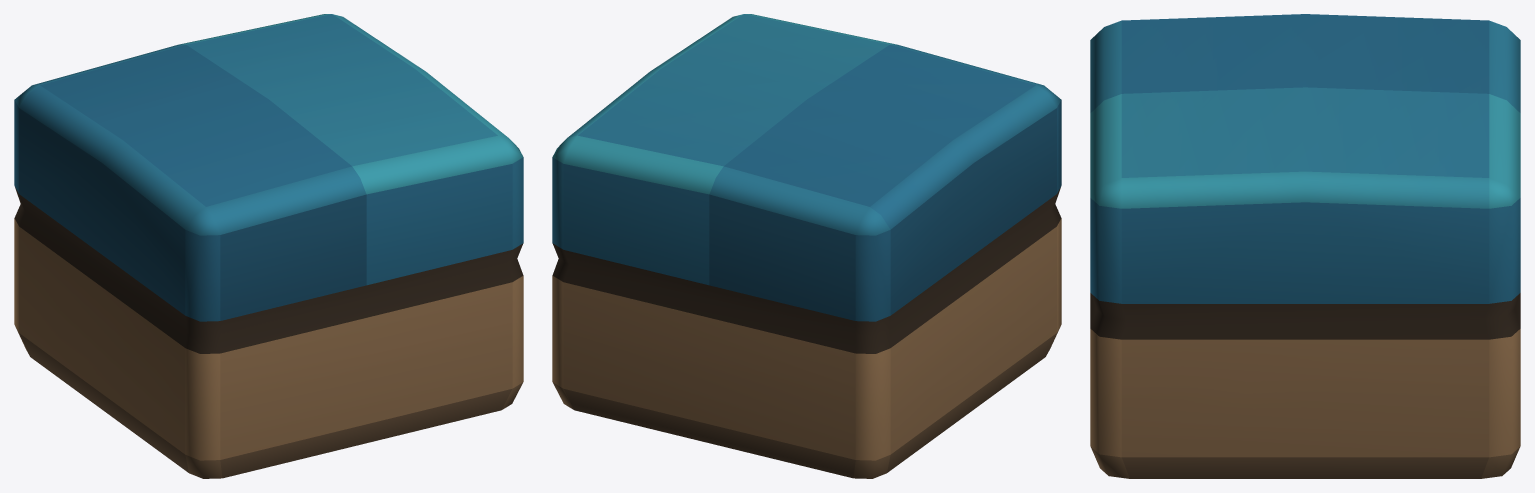
File: seating_outdoor1_2_footrest_half_LOD_setup.fbx
3 views of the same model, side by side, from view 1: azimuth 30°, elevation 25°; view 2: azimuth 150°, elevation 25°; view 3: azimuth 270°, elevation 25° (orthographic). The views are drawn at different scales.
Parts seen in each view (by area): view 1: seating_outdoor1_2_footrest_half_LOD0; view 2: seating_outdoor1_2_footrest_half_LOD0; view 3: seating_outdoor1_2_footrest_half_LOD0.
Boxes of the visible parts, x1,y1,x2,y2 form: seating_outdoor1_2_footrest_half_LOD0: [14, 14, 523, 478]; seating_outdoor1_2_footrest_half_LOD0: [552, 14, 1061, 478]; seating_outdoor1_2_footrest_half_LOD0: [1090, 14, 1520, 478].
Size of what is drawn, in the model's own units: 49.48 by 39.21 by 50.
